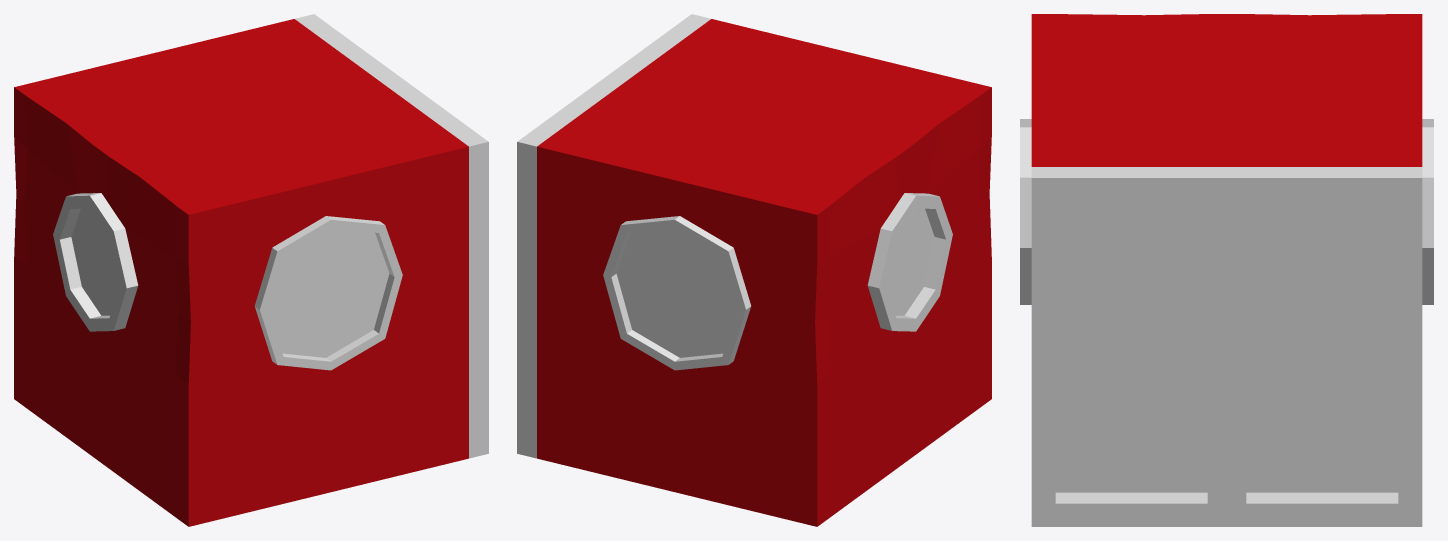
3 renders of one model, left to right at view 1: azimuth 30°, elevation 25°; view 2: azimuth 150°, elevation 25°; view 3: azimuth 270°, elevation 25°, orthographic. The views are drawn at different scales.
Parts seen in each view (by area): view 1: cube; view 2: cube; view 3: cube.
Boxes of the visible parts, bbox=[...] form: cube: bbox=[14, 14, 488, 526]; cube: bbox=[517, 14, 991, 526]; cube: bbox=[1020, 14, 1433, 526].
Size of the model in its own units: 185 by 177 by 190.
